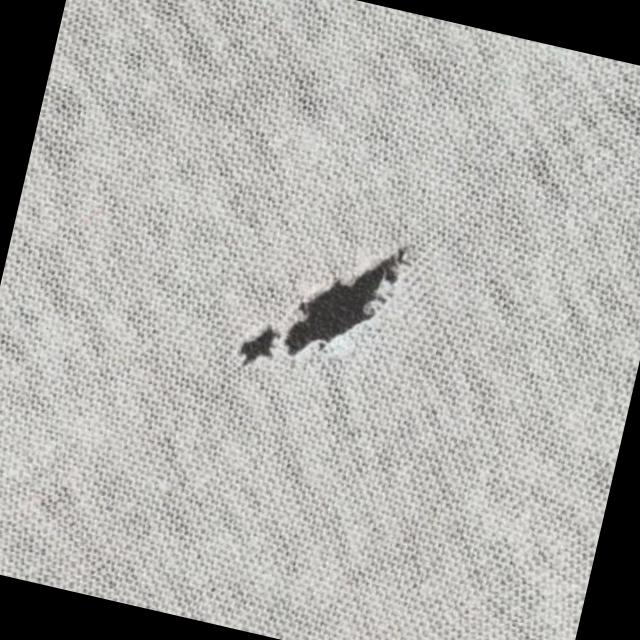cut: (224, 210, 413, 399)
